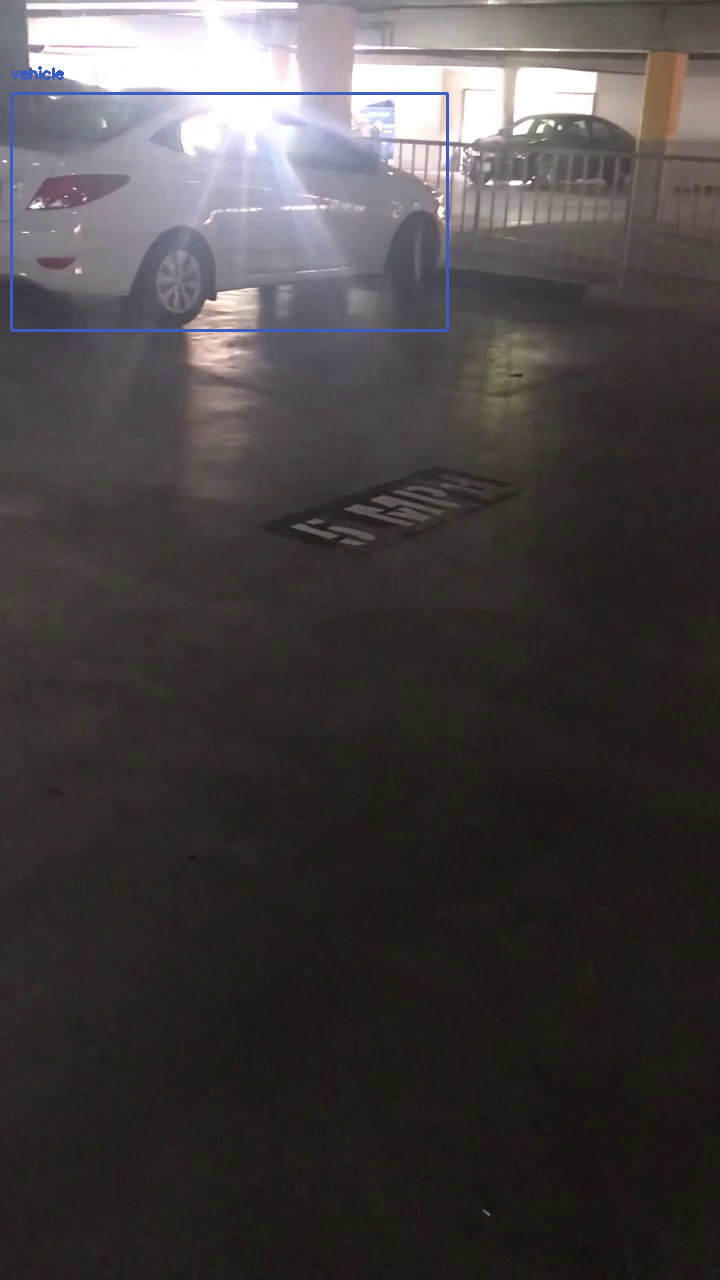vehicle: (11, 93, 447, 330)
